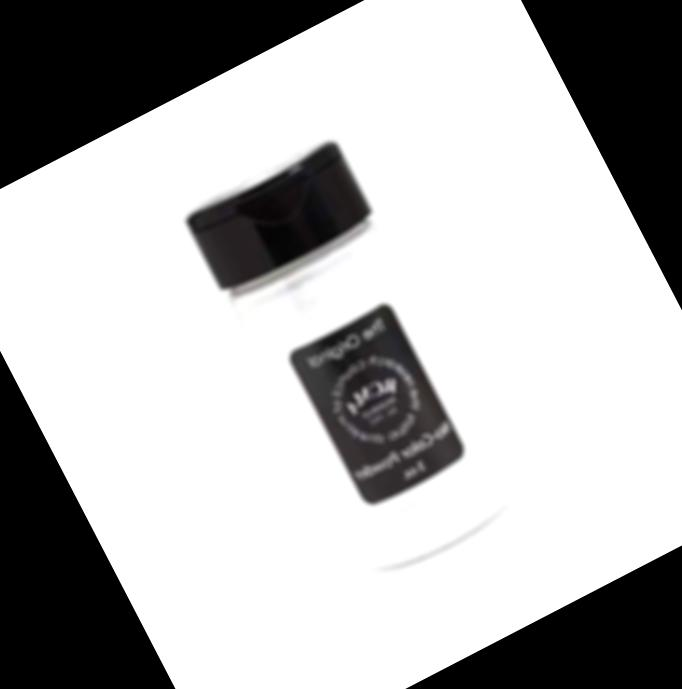cosmetic: (174, 133, 529, 584)
